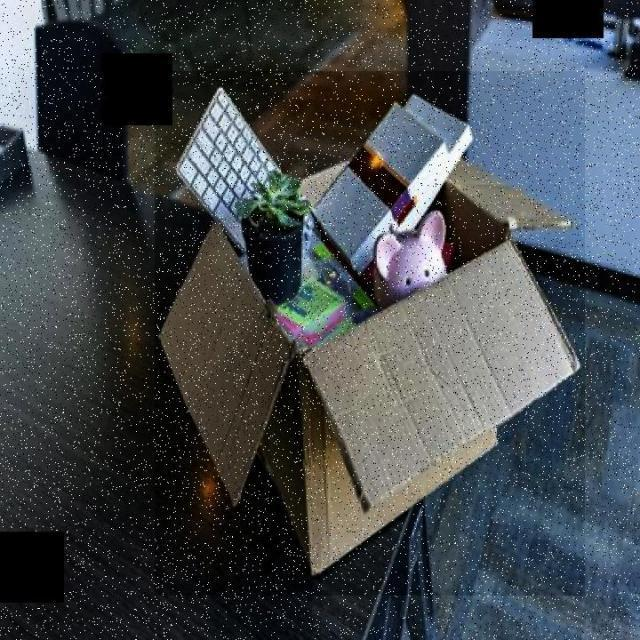box: (155, 71, 585, 596)
